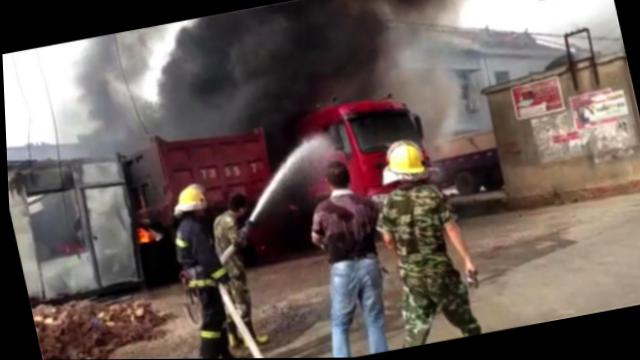fire: (131, 224, 148, 243)
